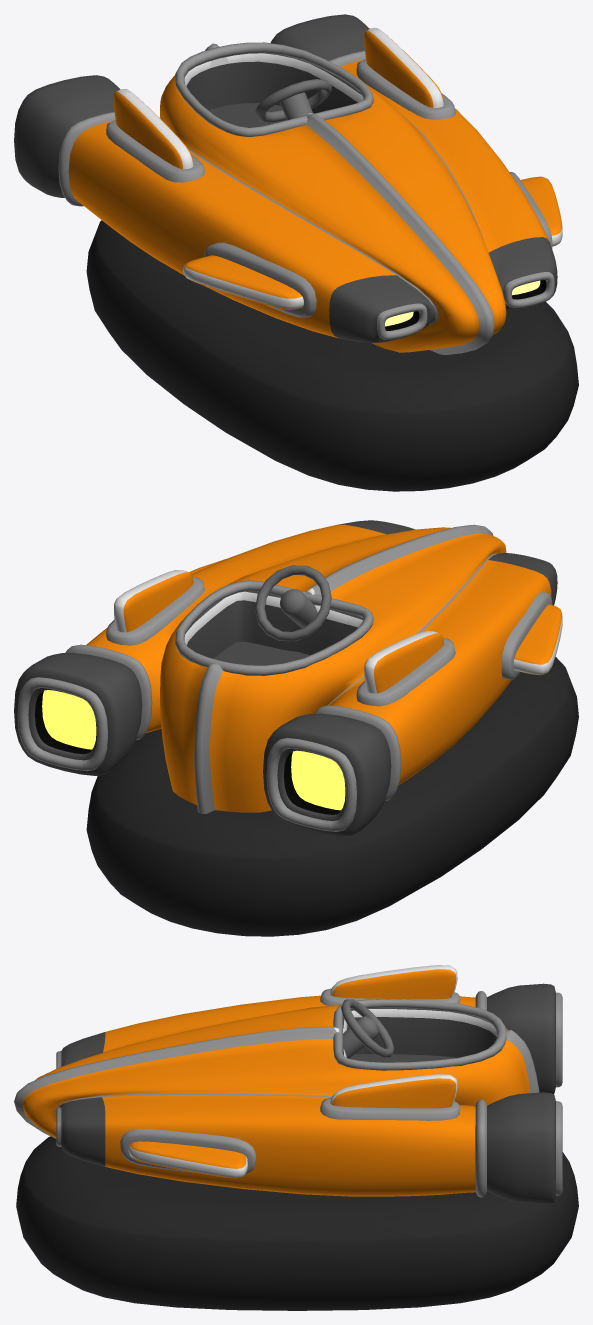
File: mesh_Car_Menu_C.fbx
The picture shows the model from 3 angles, top to bottom: view 1: azimuth 30°, elevation 25°; view 2: azimuth 150°, elevation 25°; view 3: azimuth 270°, elevation 25°; orthographic projection. The views are drawn at different scales.
Visible parts, largest first — view 1: mesh_Car_Menu_C; view 2: mesh_Car_Menu_C; view 3: mesh_Car_Menu_C.
Part boxes in pixels (left/top/right/bottom): mesh_Car_Menu_C: left=14, top=14, right=578, bottom=491; mesh_Car_Menu_C: left=14, top=520, right=578, bottom=936; mesh_Car_Menu_C: left=14, top=965, right=578, bottom=1310.
Size of the model in its own units: 1.98 by 1.5 by 2.98.
